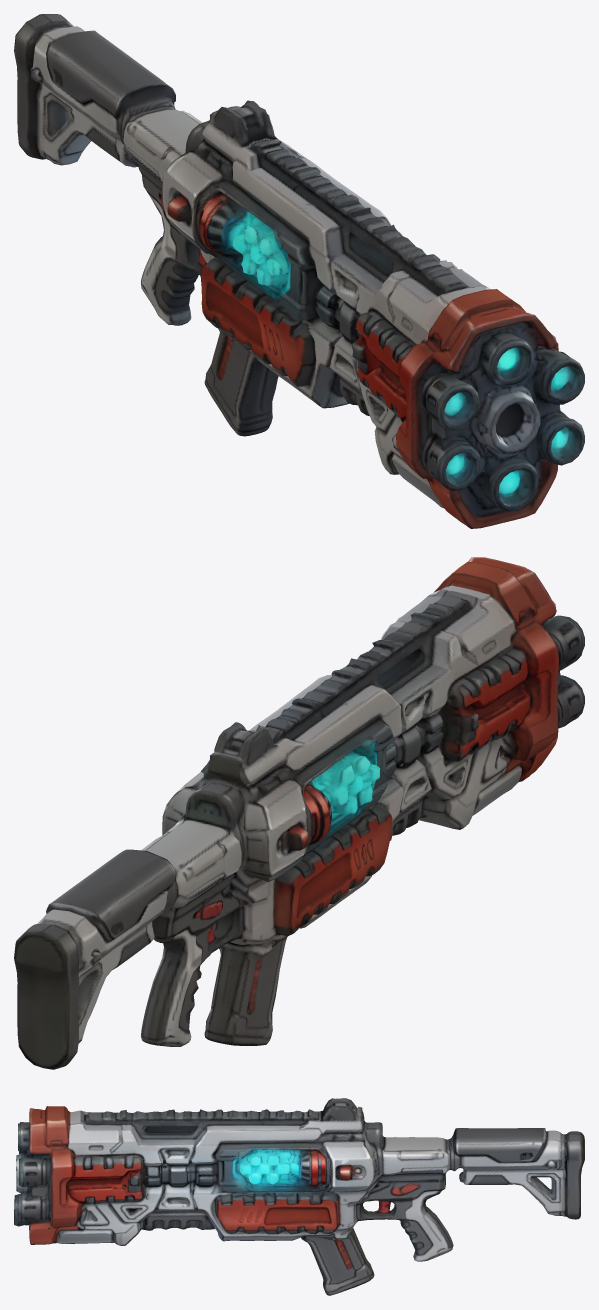
The model's file is lod_plasma_shotgun.fbx.
3 renders of one model, top to bottom at view 1: azimuth 30°, elevation 25°; view 2: azimuth 150°, elevation 25°; view 3: azimuth 270°, elevation 25°, orthographic. The views are drawn at different scales.
Parts seen in each view (by area): view 1: model_LOD0; view 2: model_LOD0; view 3: model_LOD0.
Boxes of the visible parts, box(x1,y1,x2,y2) form: model_LOD0: box(14, 14, 584, 528); model_LOD0: box(14, 557, 584, 1069); model_LOD0: box(14, 1098, 584, 1295).
Size of what is drawn, in the model's own units: 33.83 by 69.75 by 190.
